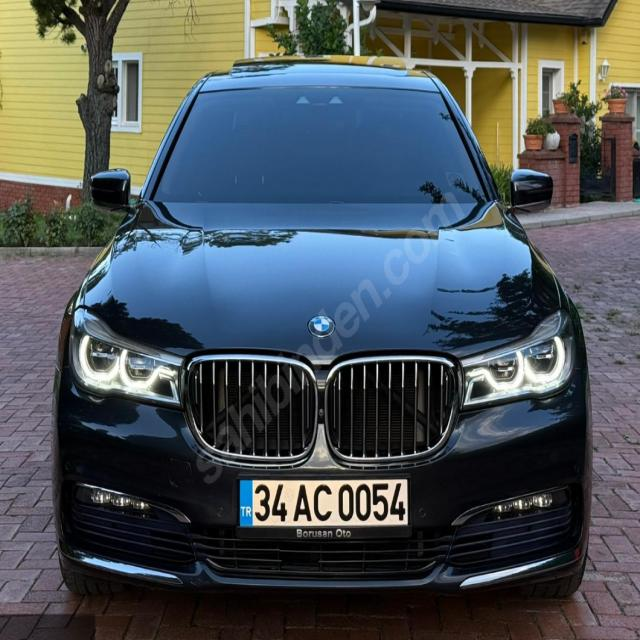bmw: (308, 311, 336, 340)
